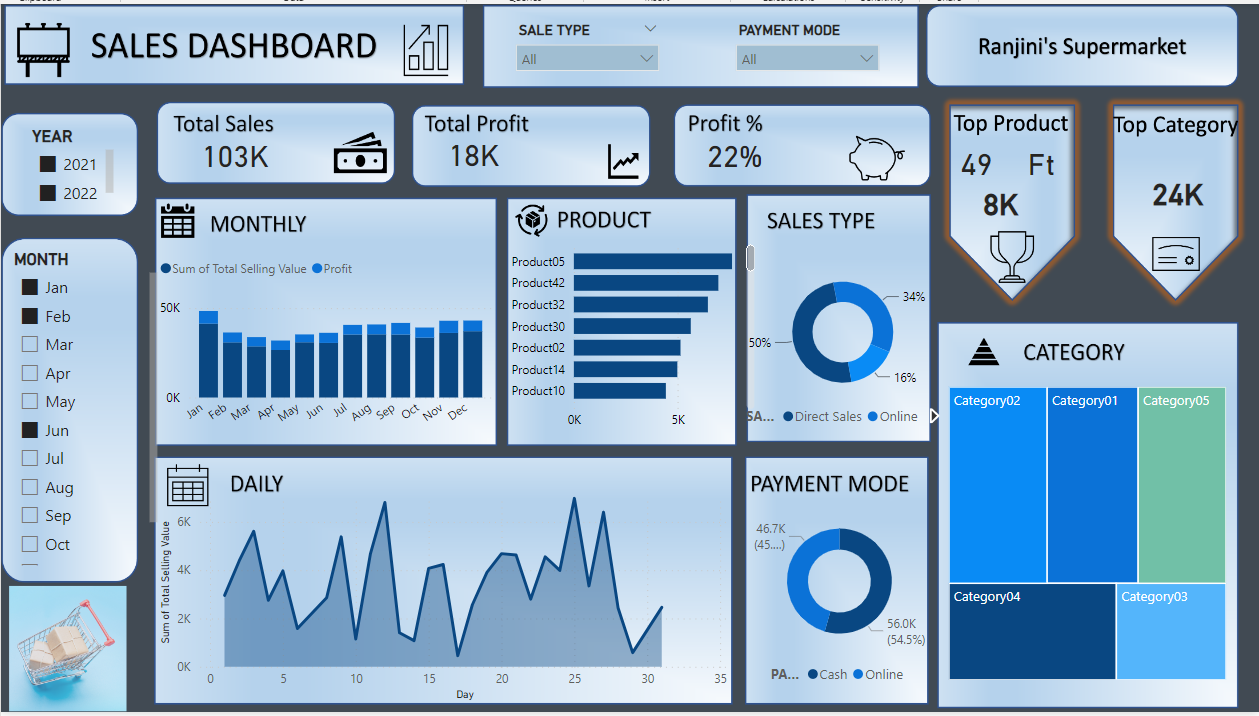

Layout of this report page (visuals, bound fields, positions):
{"tool":"powerbi","page":{"name":"Page 1","canvas":[1280,720],"ordinal":0},"visuals":[{"type":"slicer","title":"MONTH","fields":{"Values":["InputData.Month Name"]},"box":[8.1,249.3,155.7,326.6],"z":0},{"type":"slicer","fields":{"Values":["InputData.PAYMENT MODE"]},"box":[737.7,13.2,165.9,64.1],"z":1},{"type":"slicer","fields":{"Values":["InputData.SALE TYPE"]},"box":[513.8,13.2,165.9,64.1],"z":2},{"type":"slicer","title":"YEAR","fields":{"Values":["InputData.Year"]},"box":[26.5,124.1,92.6,85.5],"z":3},{"type":"card","fields":{"Values":["InputData.Total Selling Value"]},"box":[145.5,112.9,185.2,80.4],"z":4},{"type":"card","fields":{"Values":["InputData.Profit"]},"box":[406,112.9,149.6,79.4],"z":6},{"type":"card","fields":{"Values":["InputData.Total Selling Value"]},"box":[1122.3,151.6,149.6,80.4],"z":7},{"type":"card","fields":{"Values":["InputData.Total Selling Value"]},"box":[942.2,161.8,149.6,80.4],"z":8},{"type":"card","fields":{"Values":["InputData.QUANTITY"]},"box":[925.9,122.1,133.3,79.4],"z":9},{"type":"card","fields":{"Values":["InputData.MasterData.UOM"]},"box":[1025.6,134.3,66.1,53.9],"z":10},{"type":"card","fields":{"Values":["InputData.Profit %"]},"box":[671.5,112.9,149.6,80.4],"z":11},{"type":"columnChart","fields":{"Category":["InputData.Month Name"],"Y":["InputData.Total Selling Value","InputData.Profit"]},"box":[156.7,249.3,348,198.4],"z":12},{"type":"clusteredBarChart","fields":{"Y":["InputData.Total Selling Value"],"Category":["InputData.MasterData.PRODUCT"]},"box":[508.7,232,262.5,208.6],"z":13},{"type":"areaChart","fields":{"Y":["InputData.Total Selling Value"],"Category":["InputData.Day"]},"box":[156.7,488.4,590.1,224.9],"z":14},{"type":"donutChart","fields":{"Y":["InputData.Total Selling Value"],"Category":["InputData.SALE TYPE"]},"box":[752.9,258.4,206.6,180.1],"z":15},{"type":"donutChart","fields":{"Y":["InputData.Total Selling Value"],"Series":["InputData.PAYMENT MODE"]},"box":[760.1,502.6,186.2,198.4],"z":16},{"type":"treemap","fields":{"Group":["InputData.MasterData.CATEGORY"],"Values":["InputData.Total Selling Value"]},"box":[959.5,384.6,292,308.3],"z":17}]}

Visuals, with their boxes in screenshot pixels (x1, y1, x2, y2), scaled from the page's 1280x720 canvas onto the 1259x716 screenshot:
"MONTH" slicer: (8,248,161,573)
slicer - InputData.PAYMENT MODE: (726,13,889,77)
slicer - InputData.SALE TYPE: (505,13,669,77)
"YEAR" slicer: (26,123,117,208)
card - InputData.Total Selling Value: (143,112,325,192)
card - InputData.Profit: (399,112,546,191)
card - InputData.Total Selling Value: (1104,151,1251,231)
card - InputData.Total Selling Value: (927,161,1074,241)
card - InputData.QUANTITY: (911,121,1042,200)
card - InputData.MasterData.UOM: (1009,134,1074,187)
card - InputData.Profit %: (660,112,808,192)
columnChart - InputData.Month Name x InputData.Total Selling Value: (154,248,496,445)
clusteredBarChart - InputData.Total Selling Value x InputData.MasterData.PRODUCT: (500,231,759,438)
areaChart - InputData.Total Selling Value x InputData.Day: (154,486,735,709)
donutChart - InputData.Total Selling Value x InputData.SALE TYPE: (741,257,944,436)
donutChart - InputData.Total Selling Value x InputData.PAYMENT MODE: (748,500,931,697)
treemap - InputData.MasterData.CATEGORY x InputData.Total Selling Value: (944,382,1231,689)
